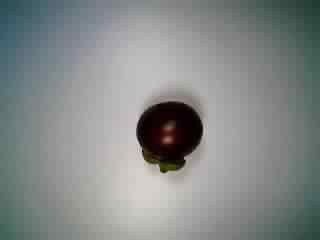mangosteen: (122, 97, 210, 175)
